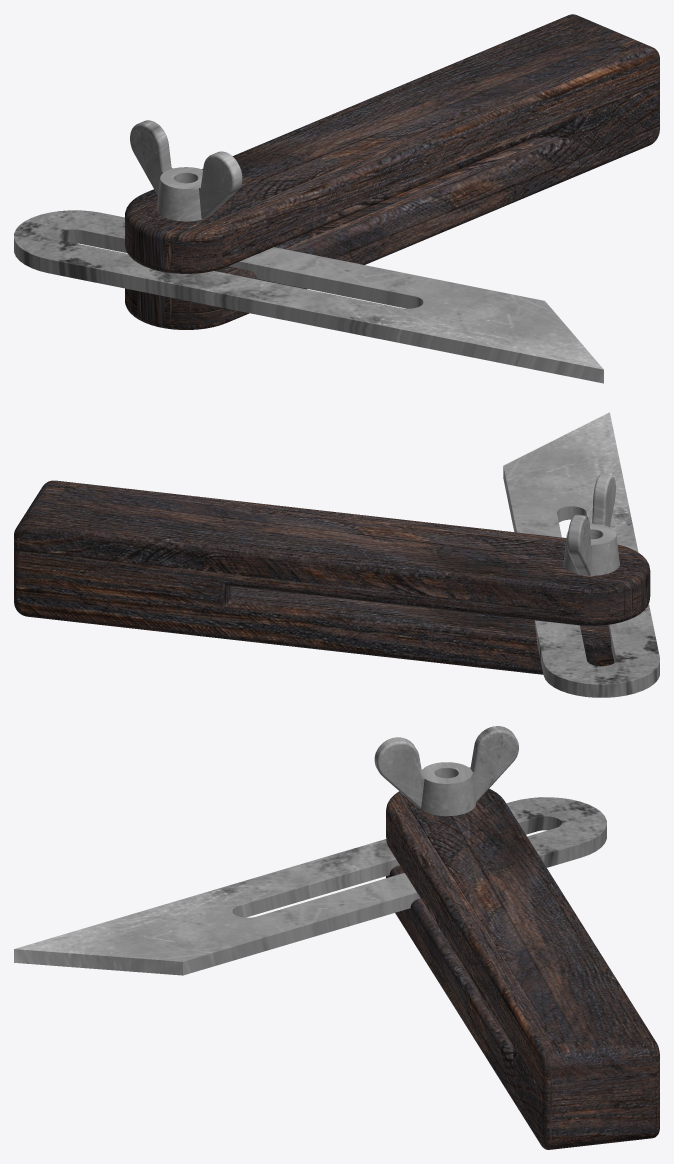
The picture shows the model from 3 angles, top to bottom: view 1: azimuth 30°, elevation 25°; view 2: azimuth 150°, elevation 25°; view 3: azimuth 270°, elevation 25°; orthographic projection. The views are drawn at different scales.
Visible parts, largest first — view 1: HANDLE__1_.001, BLADE.001, Body4.003, Body1.002, Body4.002, Body21.001, Body10.001; view 2: HANDLE__1_.001, Body4.003, BLADE.001, Body1.002, Body4.002; view 3: HANDLE__1_.001, BLADE.001, Body4.003, Body1.002, Body4.002.
Part boxes in pixels (<box>): HANDLE__1_.001: <box>125,14,659,329</box>; BLADE.001: <box>14,210,603,383</box>; Body4.003: <box>147,24,625,225</box>; Body1.002: <box>130,120,242,221</box>; Body4.002: <box>36,219,564,351</box>; Body21.001: <box>547,140,651,184</box>; Body10.001: <box>547,57,651,116</box>; HANDLE__1_.001: <box>14,480,650,674</box>; Body4.003: <box>45,488,628,579</box>; BLADE.001: <box>503,412,659,697</box>; Body1.002: <box>563,474,619,575</box>; Body4.002: <box>525,434,638,675</box>; HANDLE__1_.001: <box>386,788,659,1149</box>; BLADE.001: <box>14,797,606,975</box>; Body4.003: <box>409,797,632,1044</box>; Body1.002: <box>374,726,518,816</box>; Body4.002: <box>70,806,584,951</box>.
Size of the model in its own units: 0.0764 by 0.0193 by 0.0676.
2 materials, 2 textured.
